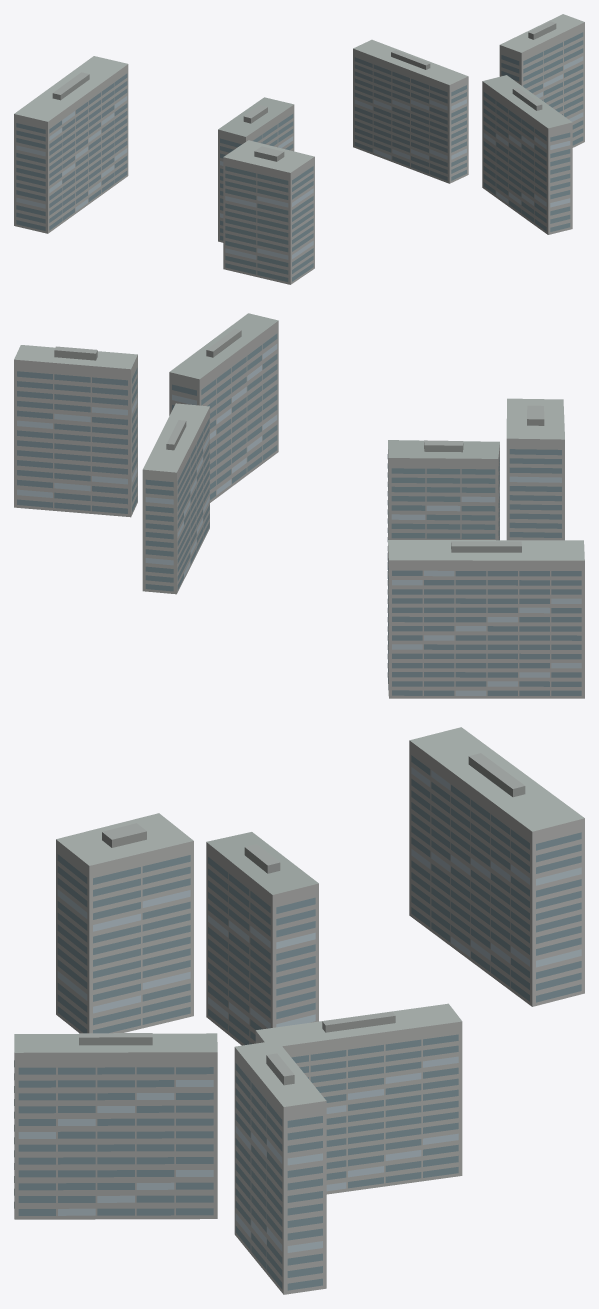
The model's file is apt-a13307201.glb.
3 views of the same model, one above another, from view 1: azimuth 30°, elevation 25°; view 2: azimuth 150°, elevation 25°; view 3: azimuth 270°, elevation 25° (orthographic). The views are drawn at different scales.
Parts seen in each view (by area): view 1: apt-a13307201; view 2: apt-a13307201; view 3: apt-a13307201.
Boxes of the visible parts, left/top/right/bottom form: apt-a13307201: left=14, top=14, right=584, bottom=284; apt-a13307201: left=14, top=313, right=584, bottom=698; apt-a13307201: left=14, top=727, right=584, bottom=1294.
Bounding box in the file's own units: 193 × 45 × 118.
